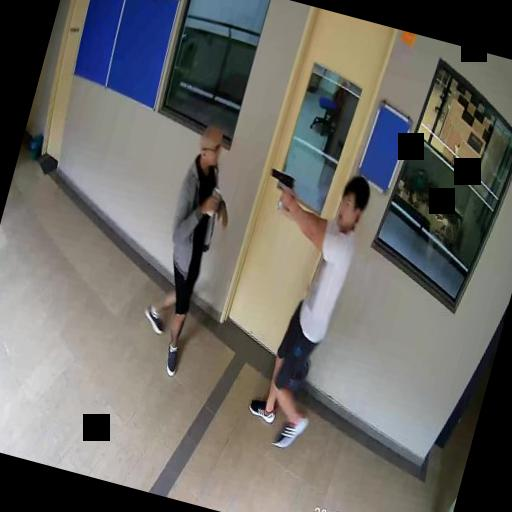Handgun: (262, 164, 296, 204)
